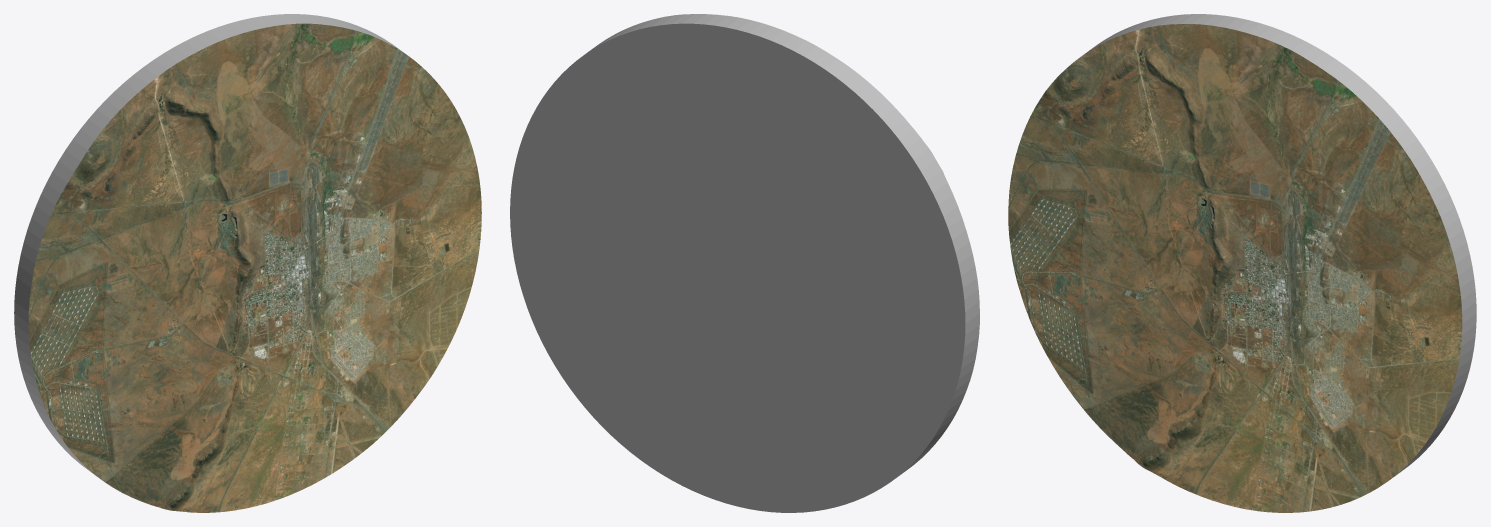
Rendered from de_aar.glb.
3 renders of one model, left to right at view 1: azimuth 30°, elevation 25°; view 2: azimuth 150°, elevation 25°; view 3: azimuth 330°, elevation 25°, orthographic.
Size of the model in its own units: 200 by 200 by 14.78.
2 materials, 1 textured.
